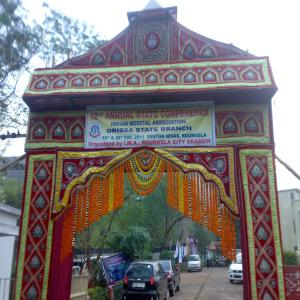Vehicle-registration-plate: (133, 284, 146, 289)
